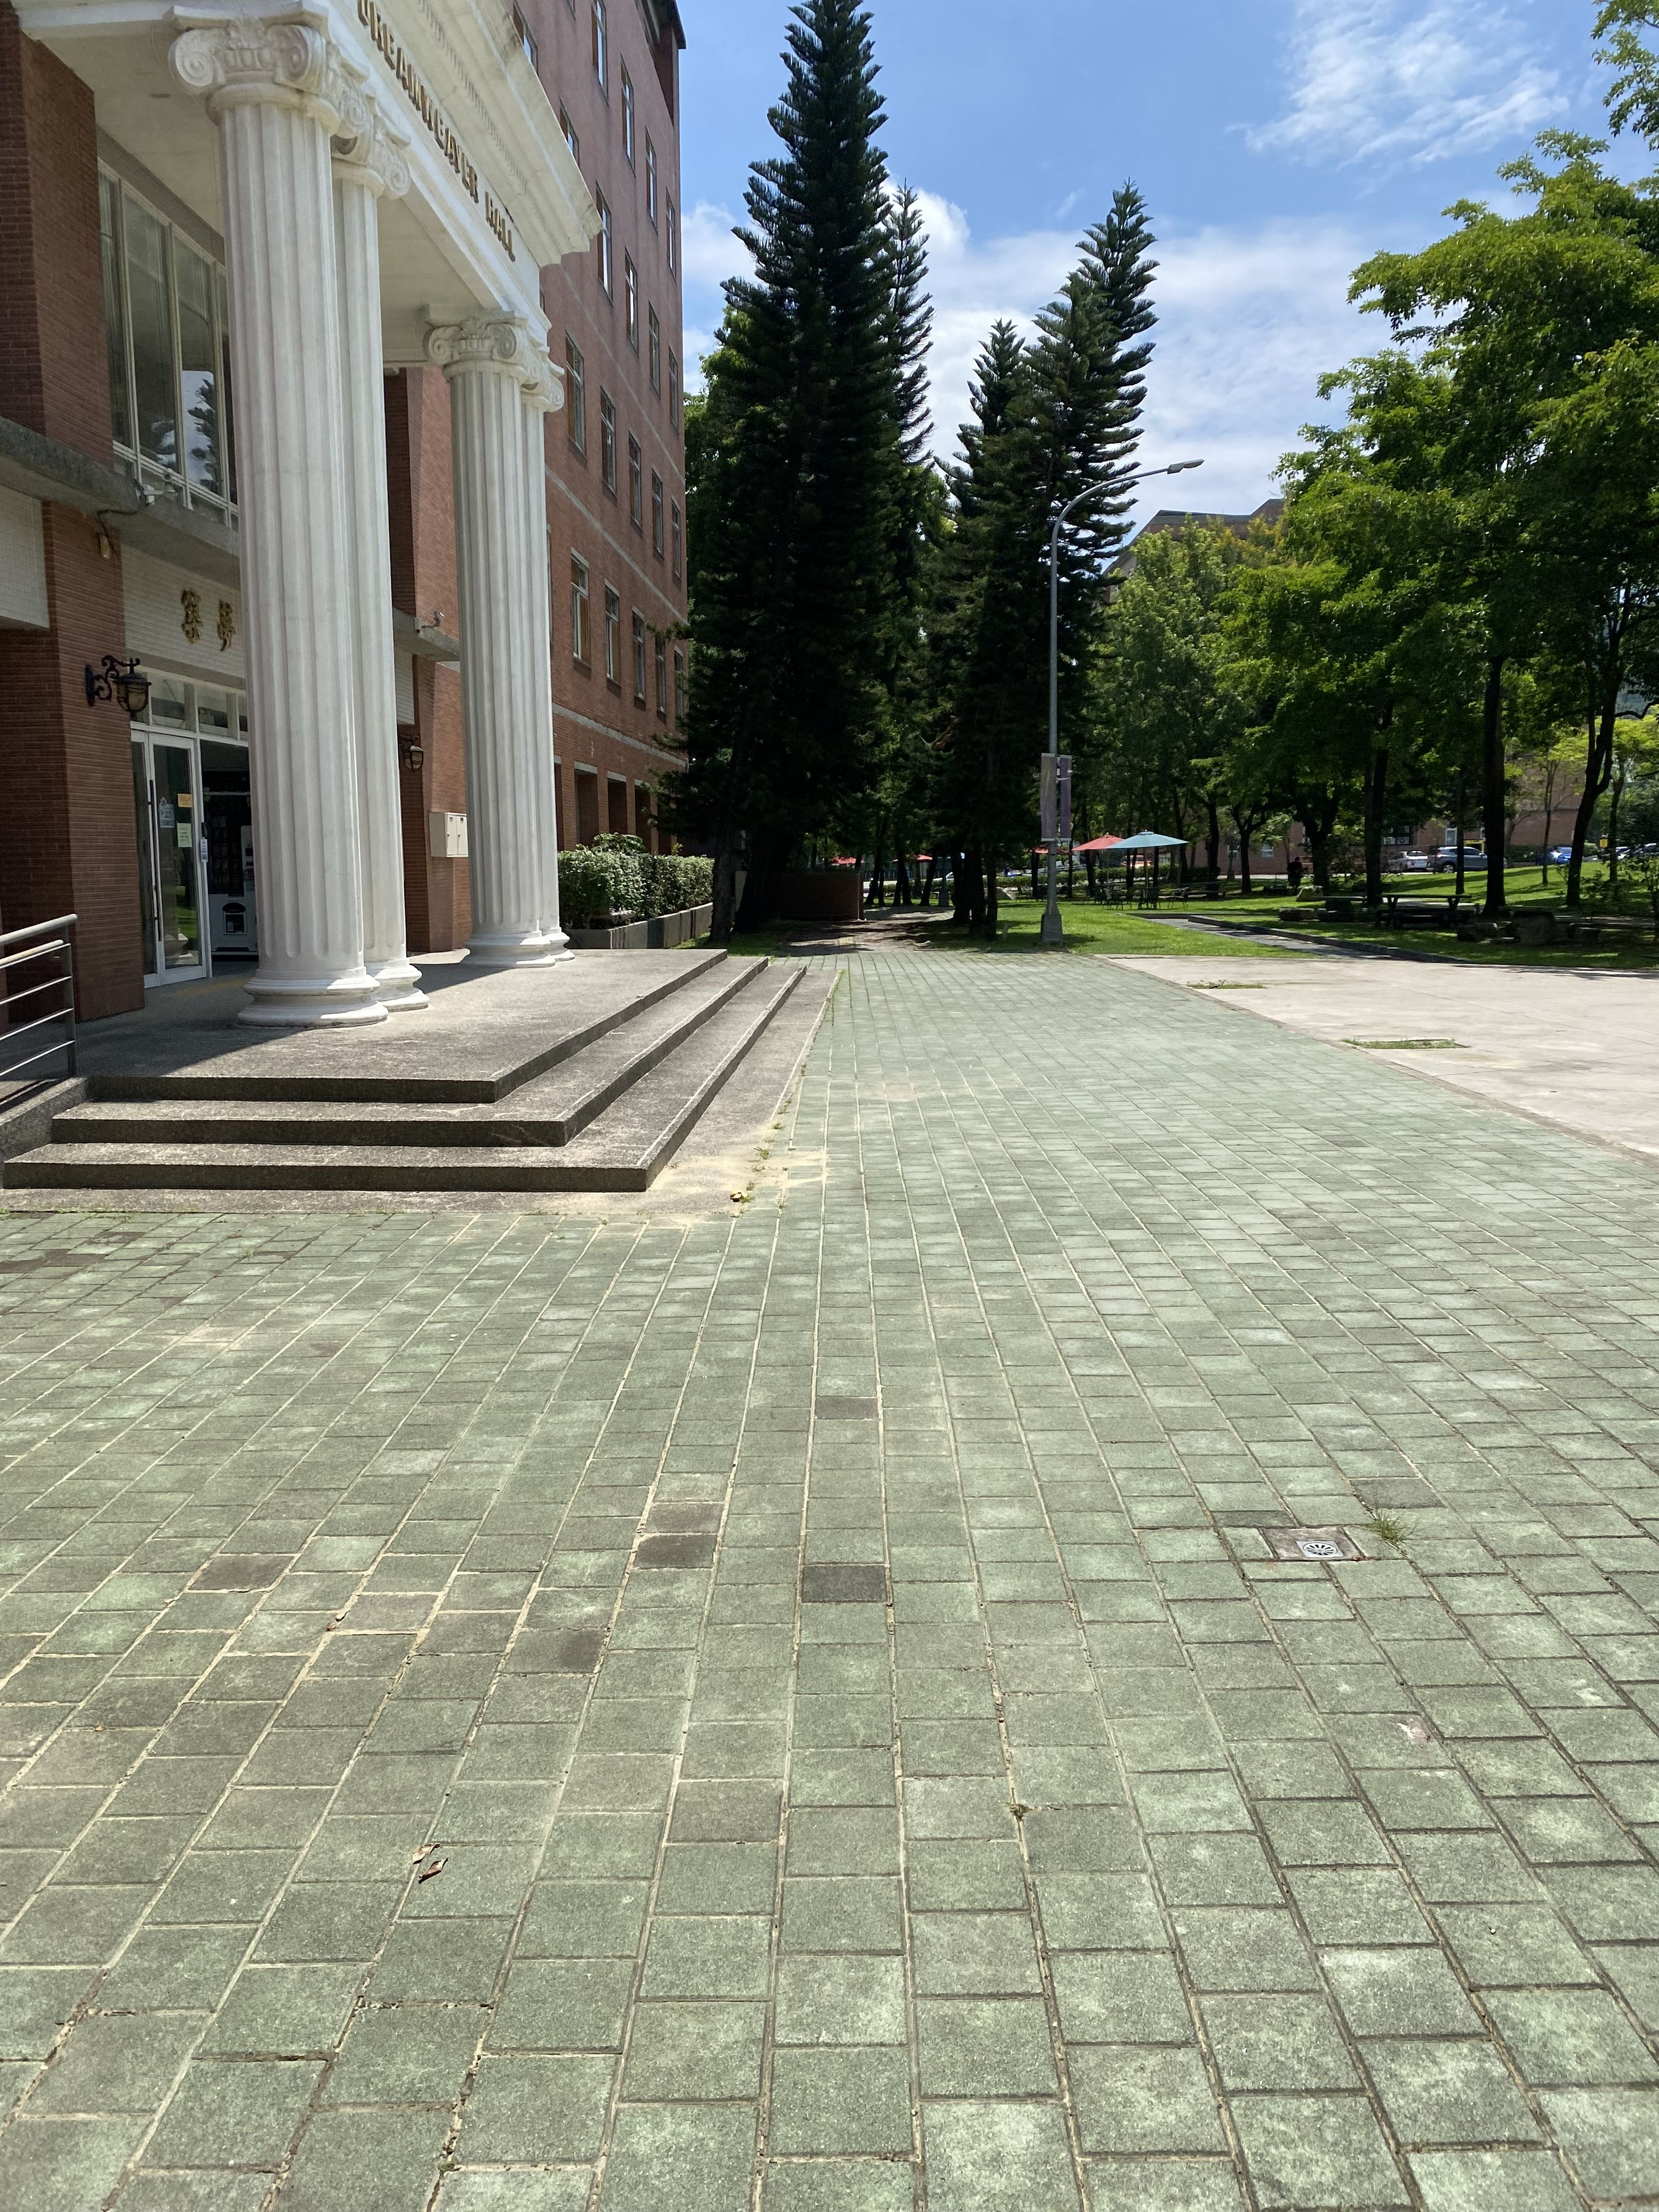0: (3, 1017, 770, 2212)
sidewalk: (734, 857, 1659, 2212)
